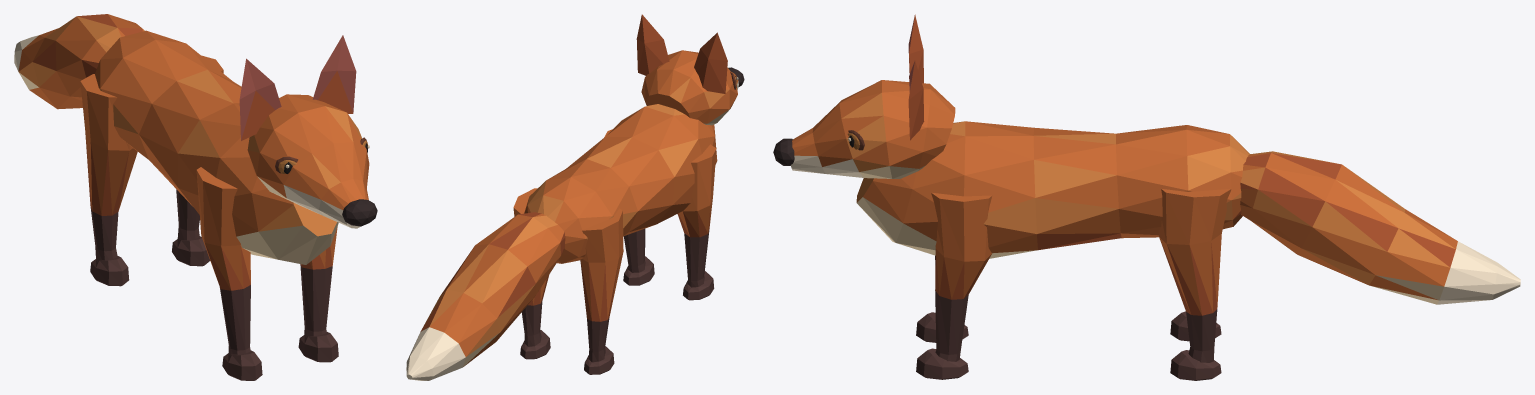
The model's file is MOB_Fox.glb.
The picture shows the model from 3 angles, left to right: view 1: azimuth 30°, elevation 25°; view 2: azimuth 150°, elevation 25°; view 3: azimuth 270°, elevation 25°; orthographic projection. The views are drawn at different scales.
Visible parts, largest first — view 1: SM_MOB_Fox_Body, SM_MOB_Fox_Head, SM_MOB_Fox_Brush, SM_MOB_Fox_HindLeg_R, SM_MOB_Fox_FrontLeg_R, SM_MOB_Fox_FrontLeg_L, SM_MOB_Fox_Ear_R, SM_MOB_Fox_Ear_L, SM_MOB_Fox_HindLeg_L, SM_MOB_Fox_Paw_Front_R, SM_MOB_Fox_Paw_Front_L, SM_MOB_Fox_Paw_Hind_R (+2 smaller); view 2: SM_MOB_Fox_Body, SM_MOB_Fox_Brush, SM_MOB_Fox_HindLeg_R, SM_MOB_Fox_Head, SM_MOB_Fox_FrontLeg_R, SM_MOB_Fox_Ear_R, SM_MOB_Fox_Ear_L, SM_MOB_Fox_HindLeg_L, SM_MOB_Fox_FrontLeg_L, SM_MOB_Fox_Paw_Front_L, SM_MOB_Fox_Paw_Front_R, SM_MOB_Fox_Paw_Hind_L (+1 smaller); view 3: SM_MOB_Fox_Body, SM_MOB_Fox_Brush, SM_MOB_Fox_Head, SM_MOB_Fox_HindLeg_L, SM_MOB_Fox_FrontLeg_L, SM_MOB_Fox_Paw_Front_L, SM_MOB_Fox_Paw_Hind_L, SM_MOB_Fox_Ear_L, SM_MOB_Fox_Ear_R.
Boxes of the visible parts, x1=… form: SM_MOB_Fox_Body: x1=95, y1=30, x2=338, y2=264; SM_MOB_Fox_Head: x1=247, y1=94, x2=369, y2=228; SM_MOB_Fox_Brush: x1=14, y1=14, x2=144, y2=109; SM_MOB_Fox_HindLeg_R: x1=80, y1=74, x2=137, y2=261; SM_MOB_Fox_FrontLeg_R: x1=196, y1=167, x2=250, y2=355; SM_MOB_Fox_FrontLeg_L: x1=300, y1=227, x2=337, y2=337; SM_MOB_Fox_Ear_R: x1=239, y1=58, x2=281, y2=140; SM_MOB_Fox_Ear_L: x1=312, y1=35, x2=356, y2=113; SM_MOB_Fox_HindLeg_L: x1=176, y1=55, x2=223, y2=240; SM_MOB_Fox_Paw_Front_R: x1=222, y1=350, x2=262, y2=380; SM_MOB_Fox_Paw_Front_L: x1=298, y1=332, x2=338, y2=362; SM_MOB_Fox_Paw_Hind_R: x1=90, y1=256, x2=129, y2=286; SM_MOB_Fox_Body: x1=524, y1=104, x2=717, y2=263; SM_MOB_Fox_Brush: x1=406, y1=212, x2=565, y2=380; SM_MOB_Fox_HindLeg_R: x1=580, y1=208, x2=623, y2=362; SM_MOB_Fox_Head: x1=641, y1=50, x2=738, y2=125; SM_MOB_Fox_FrontLeg_R: x1=677, y1=144, x2=716, y2=287; SM_MOB_Fox_Ear_R: x1=694, y1=32, x2=727, y2=93; SM_MOB_Fox_Ear_L: x1=636, y1=14, x2=669, y2=75; SM_MOB_Fox_HindLeg_L: x1=513, y1=188, x2=548, y2=346; SM_MOB_Fox_FrontLeg_L: x1=604, y1=129, x2=645, y2=272; SM_MOB_Fox_Paw_Front_L: x1=623, y1=256, x2=654, y2=285; SM_MOB_Fox_Paw_Front_R: x1=683, y1=271, x2=714, y2=300; SM_MOB_Fox_Paw_Hind_L: x1=520, y1=330, x2=550, y2=359; SM_MOB_Fox_Body: x1=856, y1=121, x2=1249, y2=258; SM_MOB_Fox_Brush: x1=1240, y1=151, x2=1520, y2=304; SM_MOB_Fox_Head: x1=790, y1=80, x2=955, y2=178; SM_MOB_Fox_HindLeg_L: x1=1158, y1=188, x2=1231, y2=362; SM_MOB_Fox_FrontLeg_L: x1=931, y1=192, x2=991, y2=361; SM_MOB_Fox_Paw_Front_L: x1=916, y1=348, x2=968, y2=379; SM_MOB_Fox_Paw_Hind_L: x1=1170, y1=350, x2=1221, y2=380; SM_MOB_Fox_Ear_L: x1=908, y1=60, x2=924, y2=140; SM_MOB_Fox_Ear_R: x1=908, y1=14, x2=923, y2=83.
Bounding box in the file's own units: 0.604 × 1.4 × 2.98.
